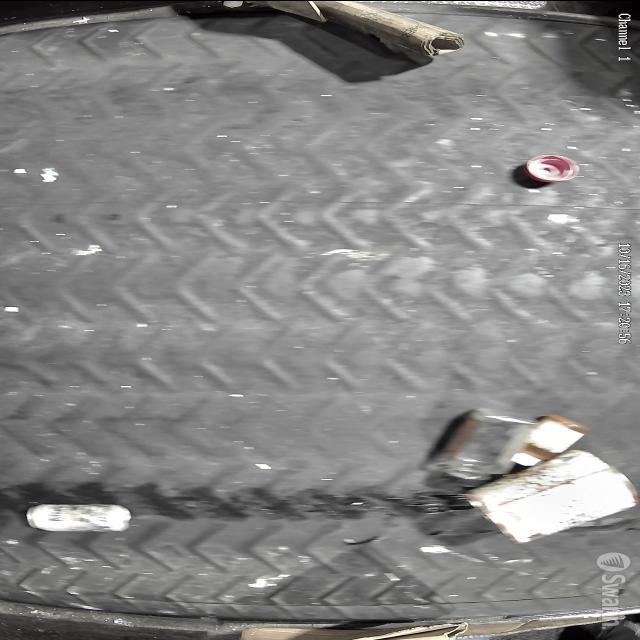can: (459, 451, 635, 550), (13, 498, 138, 536)
